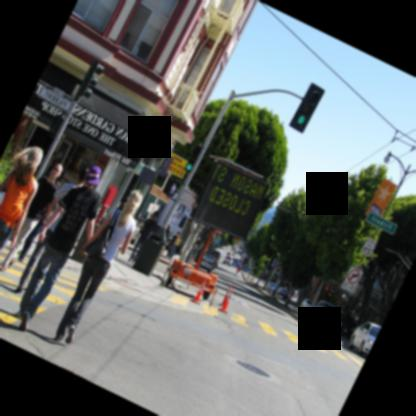handbag: (84, 208, 121, 256), (0, 171, 15, 207), (175, 245, 180, 255), (165, 244, 170, 250)
